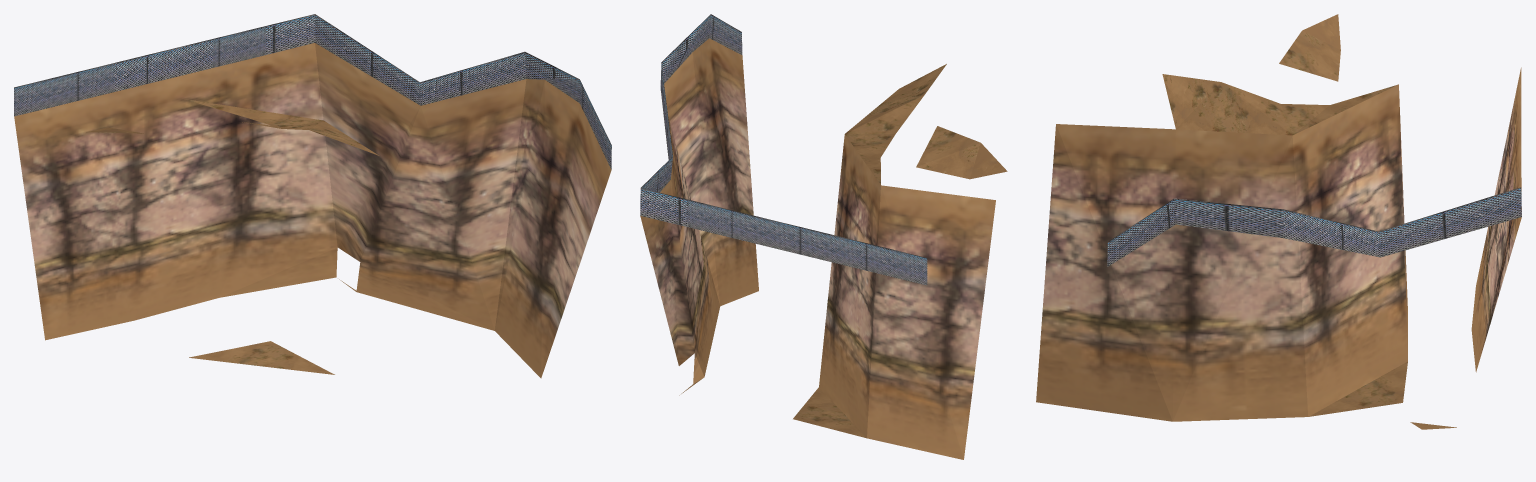
The picture shows the model from 3 angles, left to right: view 1: azimuth 30°, elevation 25°; view 2: azimuth 150°, elevation 25°; view 3: azimuth 270°, elevation 25°; orthographic projection. The views are drawn at different scales.
Visible parts, largest first — view 1: Object19; view 2: Object19; view 3: Object19.
Boxes of the visible parts, x1,y1,x2,y2 form: Object19: [14, 14, 611, 378]; Object19: [640, 14, 1007, 459]; Object19: [1036, 14, 1521, 429].
Bounding box in the file's own units: 6297 × 4591 × 6498.
Materials: 5 (5 with a texture image).
